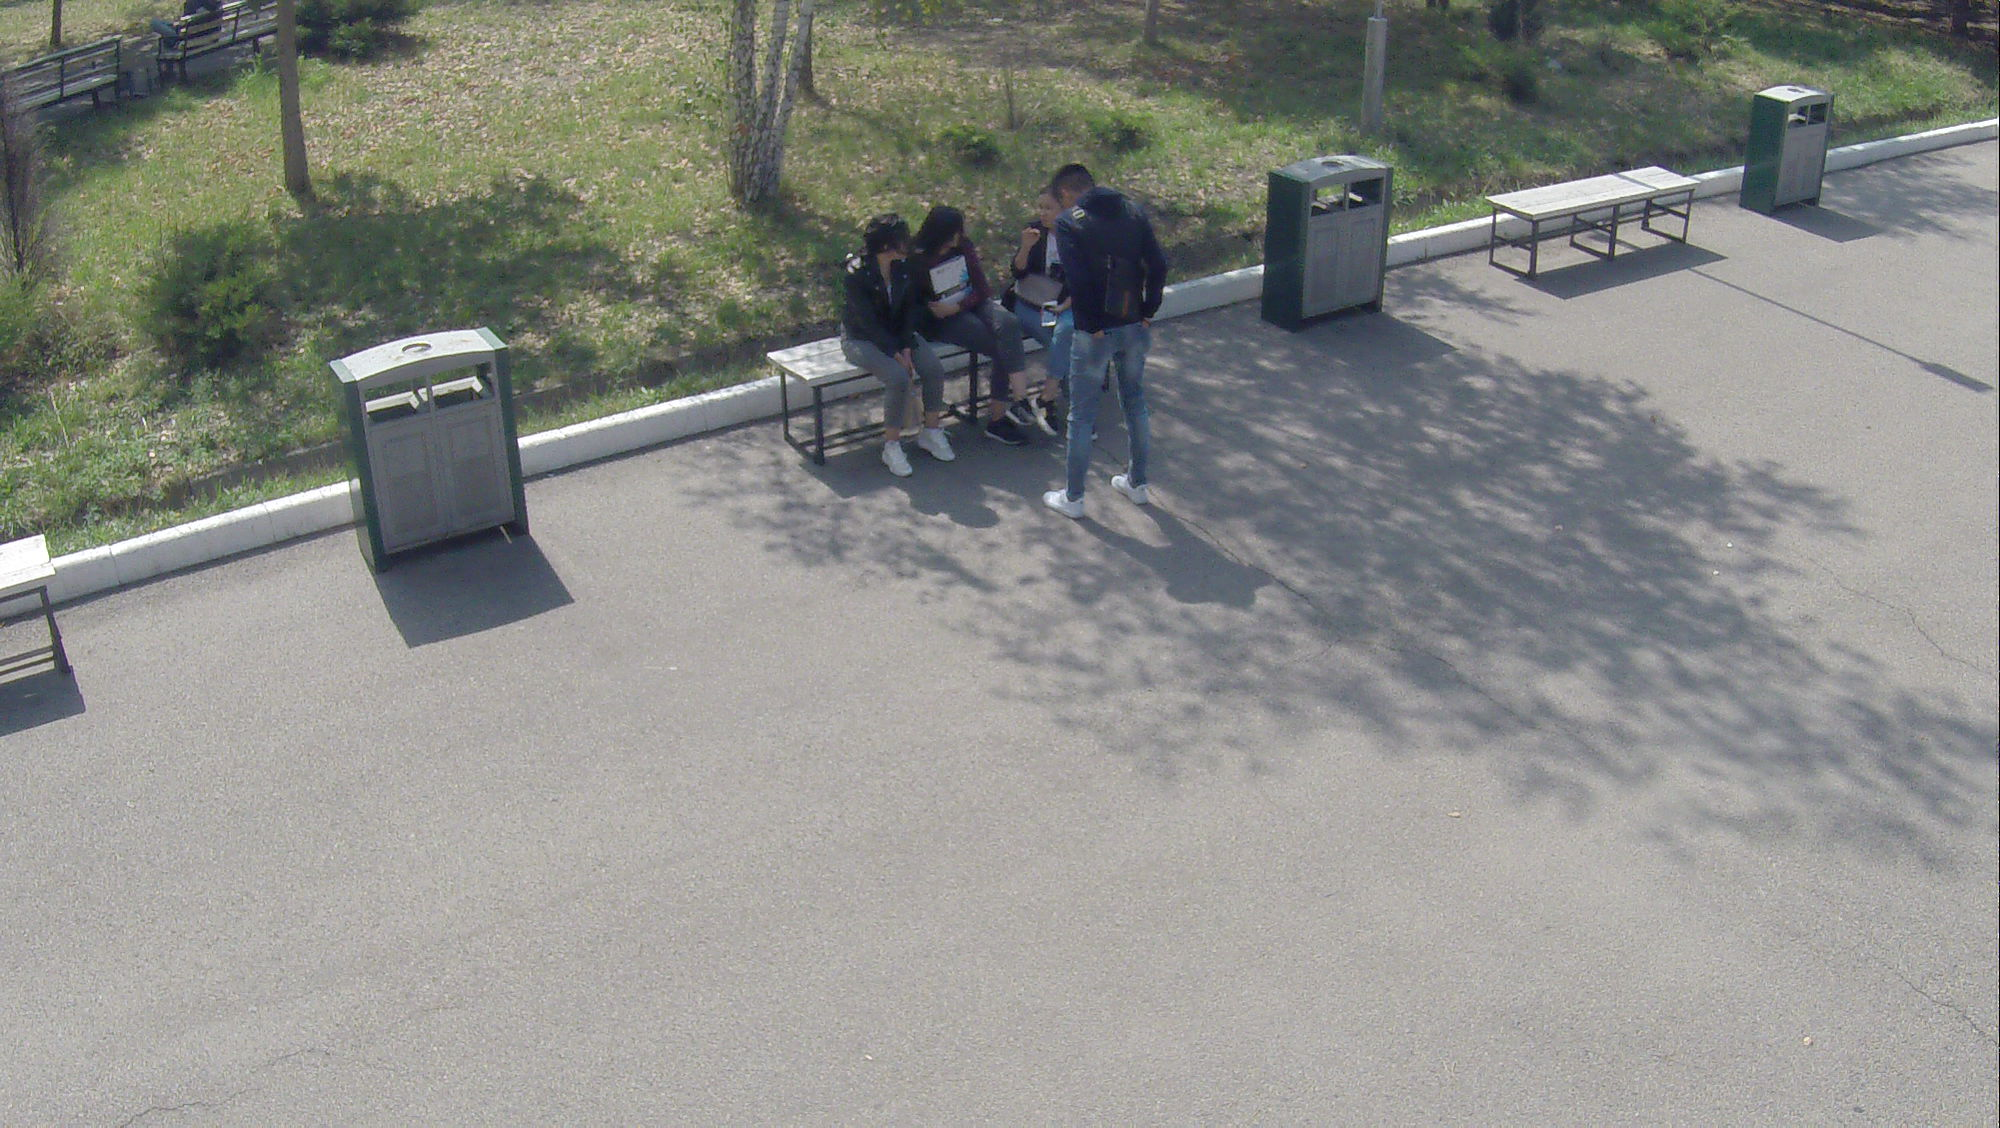person: (1047, 162, 1174, 524), (824, 214, 968, 485), (910, 201, 1014, 445), (1012, 187, 1087, 439)
